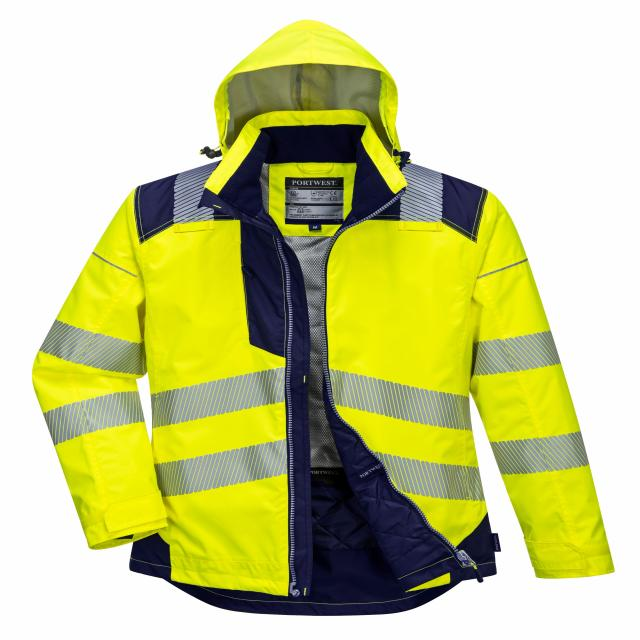Reflective-Jacket: (26, 29, 624, 640)
